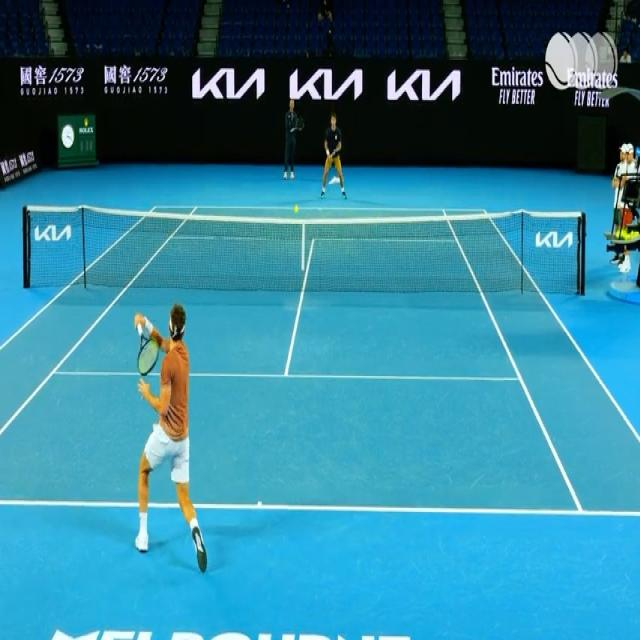forehand-finish: (128, 290, 205, 572)
